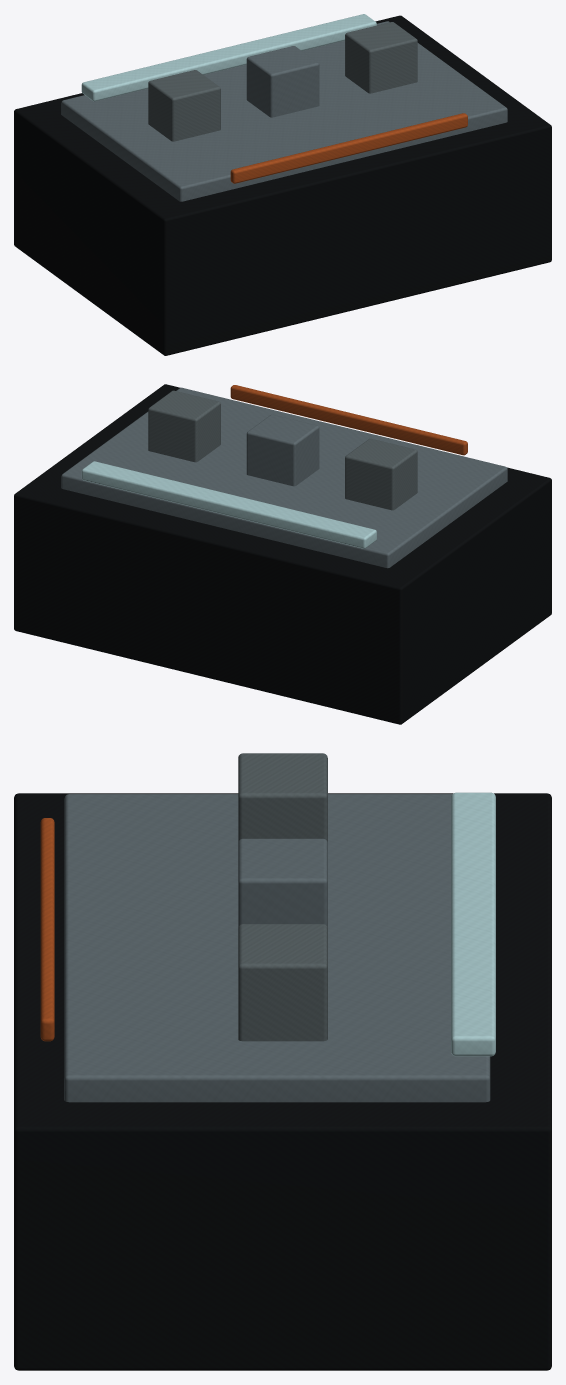
The model's file is FloorCableManifold.fbx.
The picture shows the model from 3 angles, top to bottom: view 1: azimuth 30°, elevation 25°; view 2: azimuth 150°, elevation 25°; view 3: azimuth 270°, elevation 25°; orthographic projection. The views are drawn at different scales.
Parts seen in each view (by area): view 1: FloorCableManifold_Mesh; view 2: FloorCableManifold_Mesh; view 3: FloorCableManifold_Mesh.
Boxes of the visible parts, bbox=[...] form: FloorCableManifold_Mesh: bbox=[14, 14, 551, 355]; FloorCableManifold_Mesh: bbox=[14, 384, 551, 724]; FloorCableManifold_Mesh: bbox=[14, 753, 551, 1370].
Size of the model in its own units: 142 by 68 by 96.
